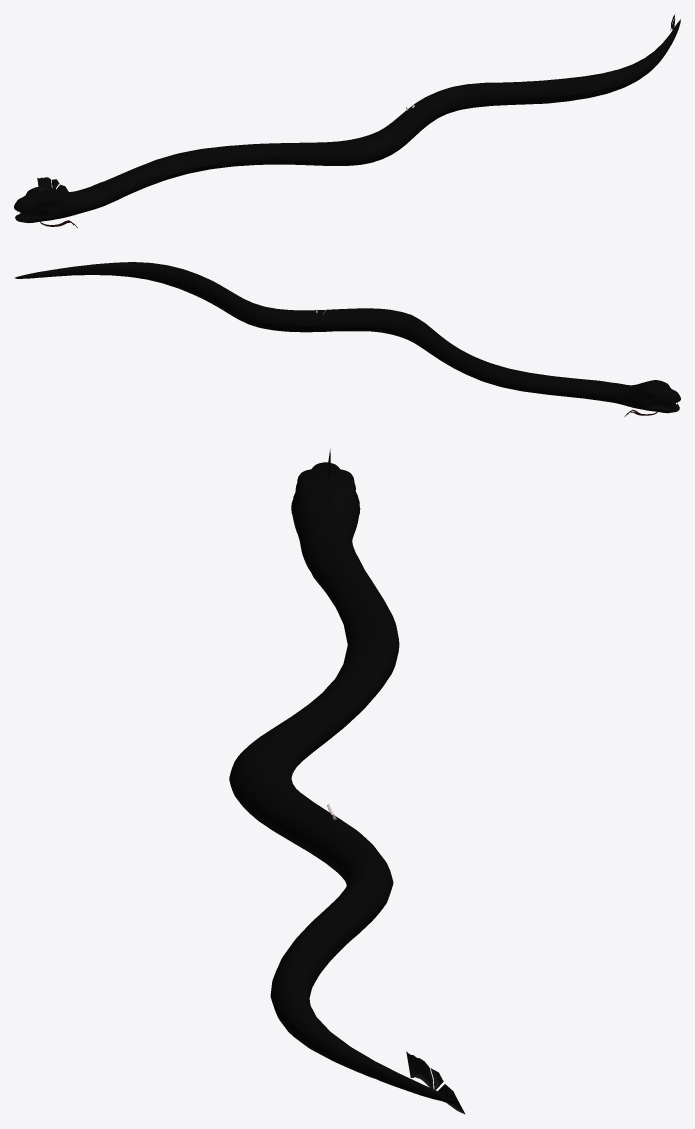
File: dragon.glb
3 views of the same model, one above another, from view 1: azimuth 30°, elevation 25°; view 2: azimuth 150°, elevation 25°; view 3: azimuth 270°, elevation 25° (orthographic). The views are drawn at different scales.
Visible parts, largest first — view 1: Retopo_Cube_5; view 2: Retopo_Cube_5; view 3: Retopo_Cube_5.
Part boxes in pixels (box(x1,y1,x2,y2)): Retopo_Cube_5: box(14, 19, 680, 223); Retopo_Cube_5: box(14, 262, 680, 413); Retopo_Cube_5: box(229, 462, 458, 1104).
Bounding box in the file's own units: 75.45 × 5.93 × 12.2.
12 materials, 6 textured.
